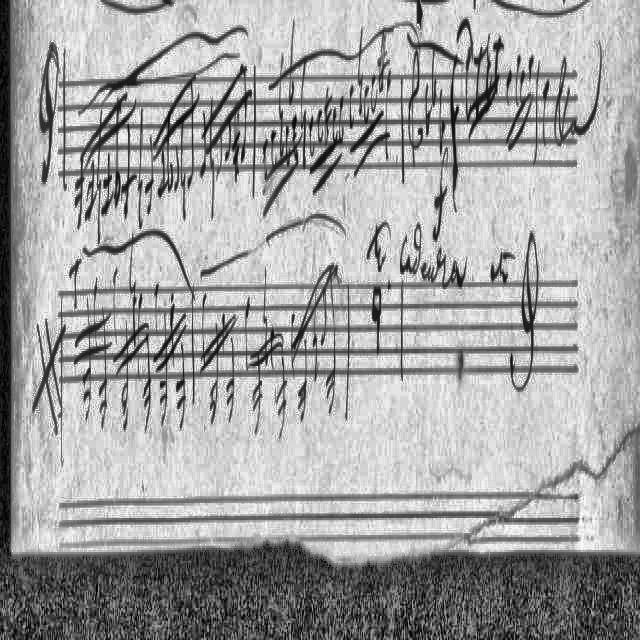Bemol: (437, 81, 447, 159), (428, 41, 438, 117), (424, 68, 432, 142)
Sixteenth-note: (199, 105, 209, 187)
Treble-clef: (404, 45, 424, 183)
